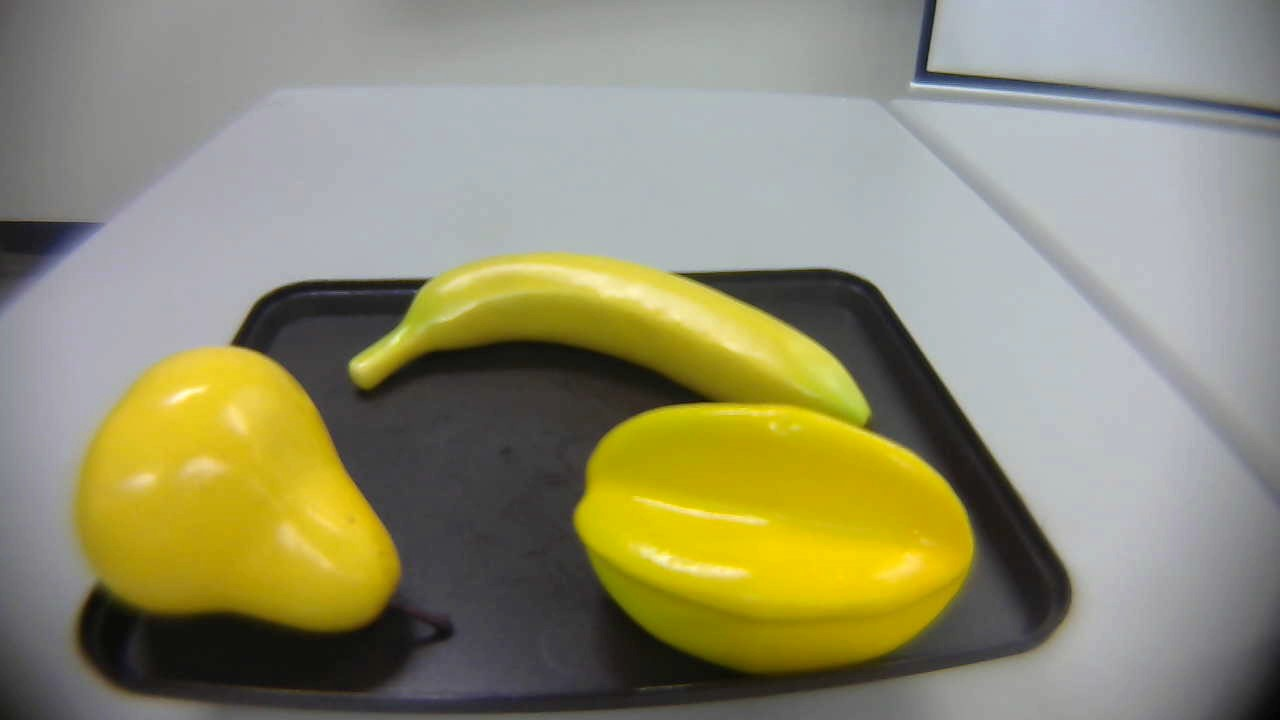banana: (348, 242, 894, 450)
star fruit: (573, 397, 974, 666)
yellow pear: (56, 345, 458, 650)
